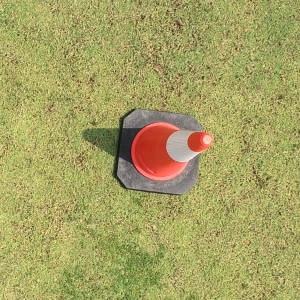traffic cone: (116, 108, 213, 195)
